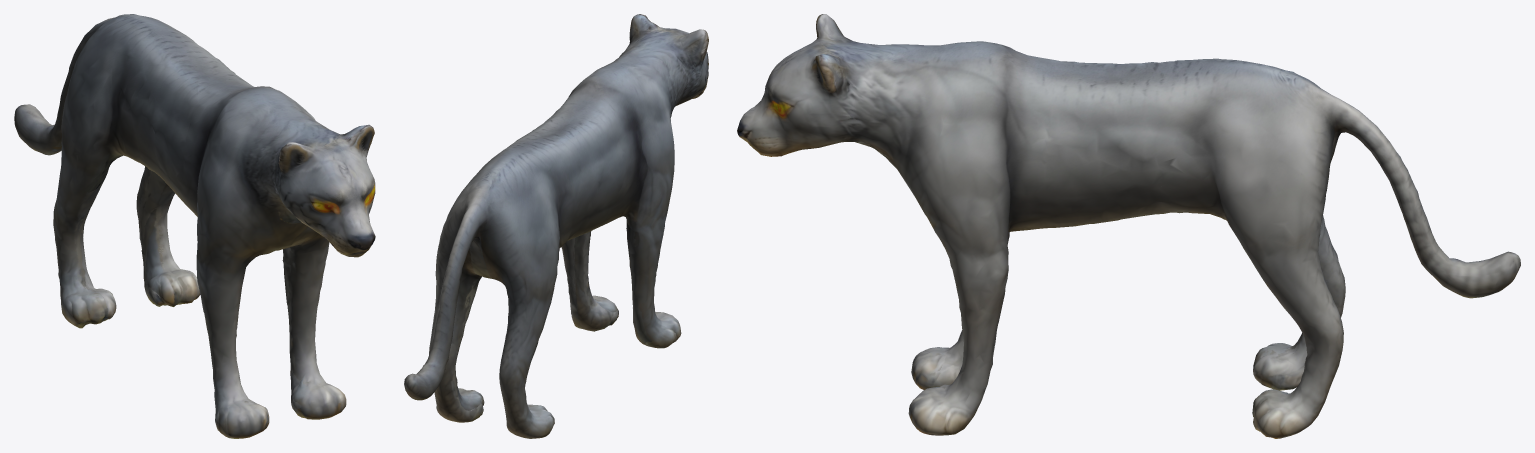
File: _Create_a_3D_model_fo_0811230140_refine.fbx
The picture shows the model from 3 angles, left to right: view 1: azimuth 30°, elevation 25°; view 2: azimuth 150°, elevation 25°; view 3: azimuth 270°, elevation 25°; orthographic projection. The views are drawn at different scales.
Parts seen in each view (by area): view 1: Mesh_0; view 2: Mesh_0; view 3: Mesh_0.
Part boxes in pixels (left/top/right/bottom): Mesh_0: left=14, top=14, right=375, bottom=438; Mesh_0: left=404, top=14, right=708, bottom=438; Mesh_0: left=737, top=14, right=1520, bottom=438.
Size of the model in its own units: 26.15 by 63.18 by 120.
1 material, 1 textured.
